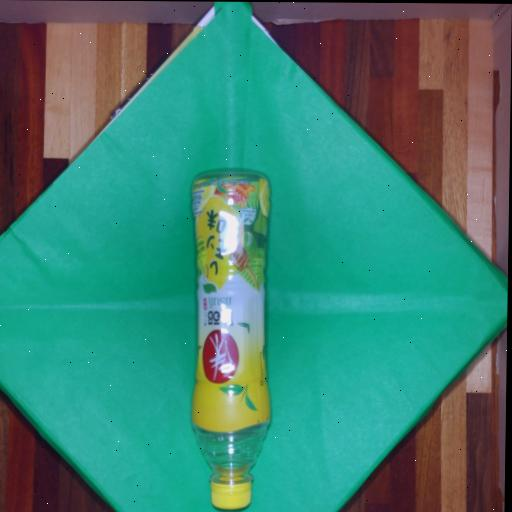bottle: (180, 153, 284, 512)
